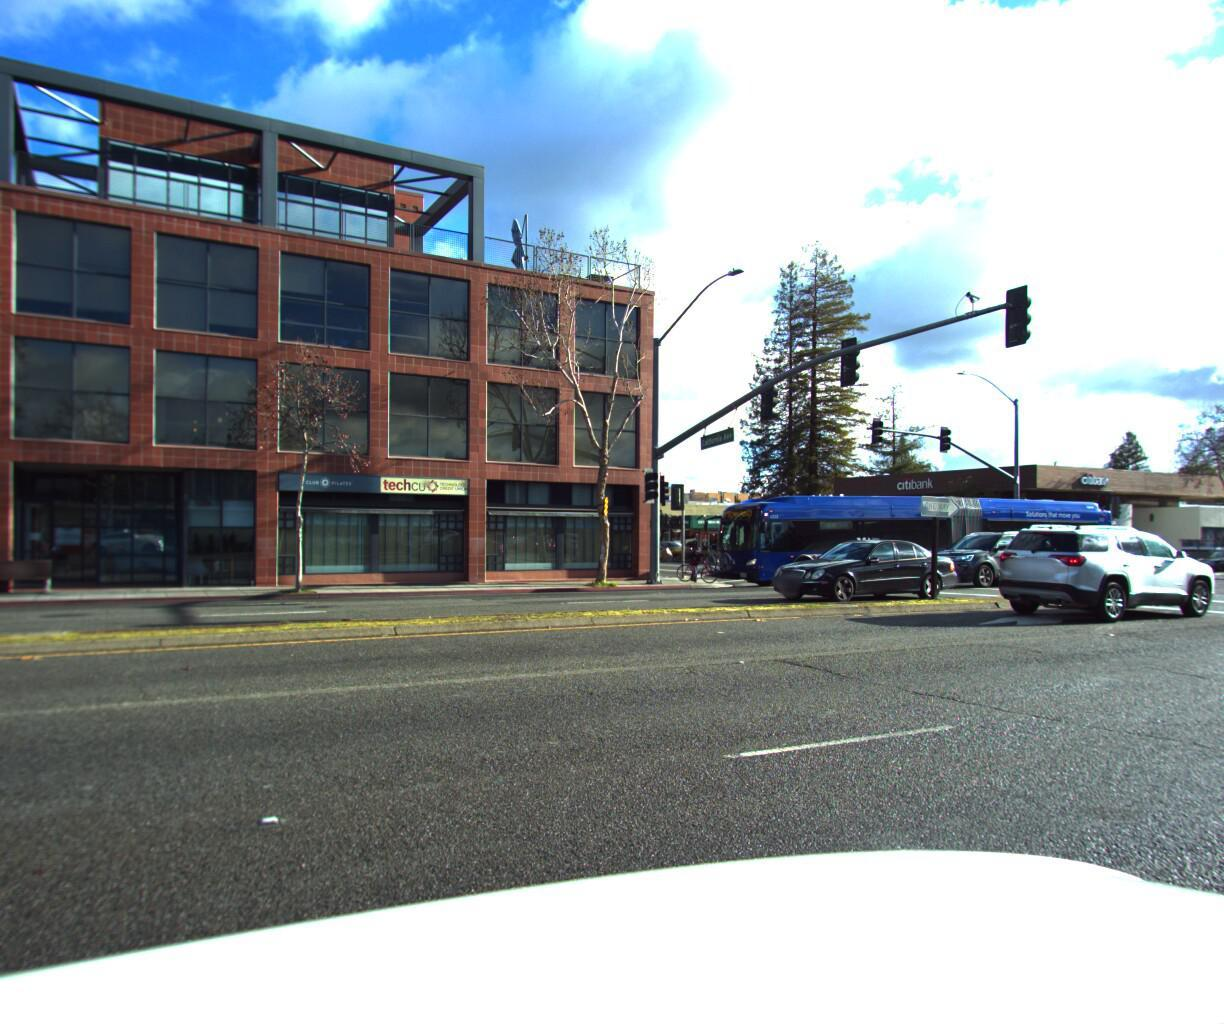bus: (658, 482, 1111, 584)
car: (985, 515, 1224, 617), (764, 534, 965, 601), (918, 527, 1070, 585), (1175, 541, 1224, 573), (1223, 531, 1224, 571)
